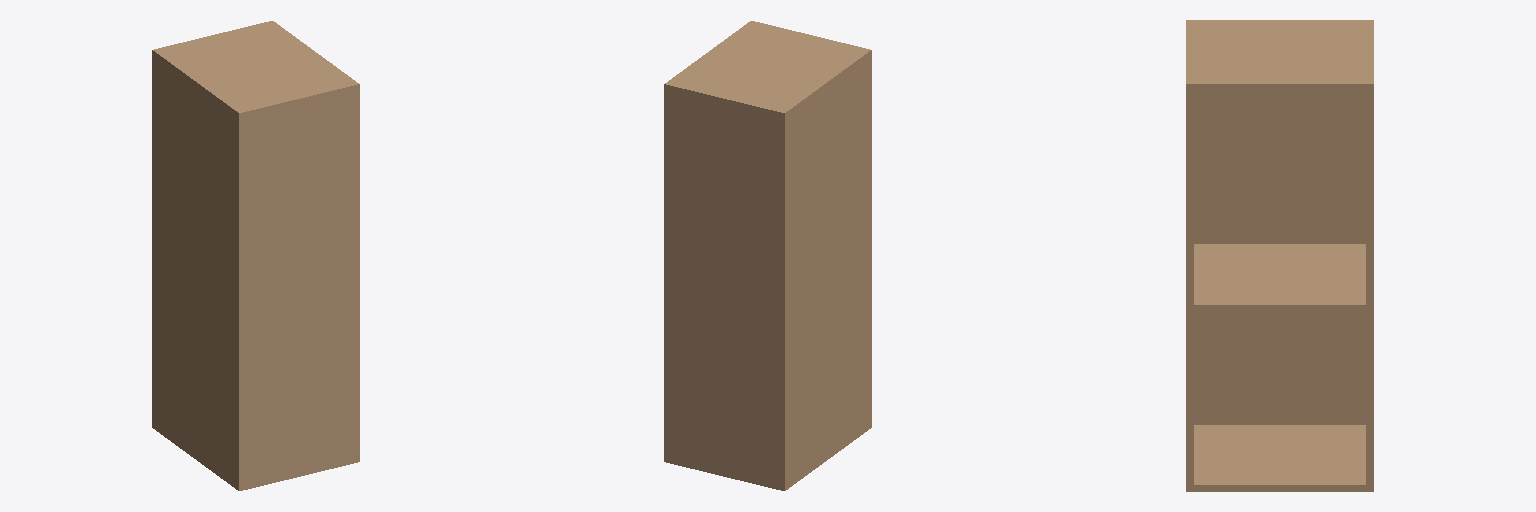
URDF robot description (plane):
<?xml version="1.1" ?> 
<robot name="plane"> 

  <link name="shelve_bottom">
    <contact>
        <lateral_friction value="1"/>
    </contact>

    <inertial>
      <origin rpy="0 0 0" xyz="0 0 0"/>
      <mass value=".0"/>
      <inertia ixx="0" ixy="0" ixz="0" iyy="0" iyz="0" izz="0"/>
    </inertial>

    <visual>
      <origin rpy="0 0 0" xyz="0.0 0.0 0.01"/>
      <geometry>
        <box size="0.4 0.5 0.02"/>
      </geometry>
      <material name="table_gray"/>
    </visual>

    <collision>
      <origin rpy="0 0 0" xyz="0.0 0.0 0.01"/>
      <geometry>
        <box size="0.4 0.5 0.02"/>
      </geometry>
    </collision>

  </link>

  <link name="shelve_top">
    <contact>
        <lateral_friction value="1"/>
    </contact>

    <inertial>
      <origin rpy="0 0 0" xyz="0 0 0"/>
      <mass value=".0"/>
      <inertia ixx="0" ixy="0" ixz="0" iyy="0" iyz="0" izz="0"/>
    </inertial>

    <visual>
      <origin rpy="0 0 0" xyz="0.0 0.0 1.1900000000000002"/>
      <geometry>
        <box size="0.4 0.5 0.02"/>
      </geometry>
      <material name="table_gray"/>
    </visual>

    <collision>
      <origin rpy="0 0 0" xyz="0.0 0.0 1.1900000000000002"/>
      <geometry>
        <box size="0.4 0.5 0.02"/>
      </geometry>
    </collision>

  </link>

  <joint name="joint_bt" type="fixed">
    <parent link="shelve_bottom"/>
    <child link="shelve_top"/>
    <origin rpy="0 0 0.0" xyz="0 0 0.0"/>
  </joint>

  <link name="shelve_back">
    <contact>
        <lateral_friction value="1"/>
    </contact>

    <inertial>
      <origin rpy="0 0 0" xyz="0 0 0"/>
      <mass value=".0"/>
      <inertia ixx="0" ixy="0" ixz="0" iyy="0" iyz="0" izz="0"/>
    </inertial>

    <visual>
      <origin rpy="0 0 0" xyz="-0.19 0 0.6000000000000001"/>
      <geometry>
        <box size="0.02 0.5 1.1600000000000001"/>
      </geometry>
      <material name="table_gray"/>
    </visual>

    <collision>
      <origin rpy="0 0 0" xyz="-0.19 0 0.6000000000000001"/>
      <geometry>
        <box size="0.02 0.5 1.1600000000000001"/>
      </geometry>
    </collision>

  </link>

  <joint name="joint2_bb" type="fixed">
    <parent link="shelve_bottom"/>
    <child link="shelve_back"/>
    <origin rpy="0 0 0.0" xyz="0 0 0.0"/>
  </joint>

  <link name="shelve_left">
    <contact>
        <lateral_friction value="1"/>
    </contact>

    <inertial>
      <origin rpy="0 0 0" xyz="0 0 0"/>
      <mass value=".0"/>
      <inertia ixx="0" ixy="0" ixz="0" iyy="0" iyz="0" izz="0"/>
    </inertial>

    <visual>
      <origin rpy="0 0 0" xyz="0.01 -0.24 0.6000000000000001"/>
      <geometry>
        <box size="0.38 0.02 1.1600000000000001"/>
      </geometry>
      <material name="table_gray"/>
    </visual>

    <collision>
      <origin rpy="0 0 0" xyz="0.01 -0.24 0.6000000000000001"/>
      <geometry>
        <box size="0.38 0.02 1.1600000000000001"/>
      </geometry>
    </collision>

  </link>

  <joint name="joint_bl" type="fixed">
    <parent link="shelve_bottom"/>
    <child link="shelve_left"/>
    <origin rpy="0 0 0.0" xyz="0 0 0.0"/>
  </joint>

  <link name="shelve_right">
    <contact>
        <lateral_friction value="1"/>
    </contact>

    <inertial>
      <origin rpy="0 0 0" xyz="0 0 0"/>
      <mass value=".0"/>
      <inertia ixx="0" ixy="0" ixz="0" iyy="0" iyz="0" izz="0"/>
    </inertial>

    <visual>
      <origin rpy="0 0 0" xyz="0.01 0.24 0.6000000000000001"/>
      <geometry>
        <box size="0.38 0.02 1.1600000000000001"/>
      </geometry>
      <material name="table_gray"/>
    </visual>

    <collision>
      <origin rpy="0 0 0" xyz="0.01 0.24 0.6000000000000001"/>
      <geometry>
        <box size="0.38 0.02 1.1600000000000001"/>
      </geometry>
    </collision>

  </link>

  <joint name="joint_br" type="fixed">
    <parent link="shelve_bottom"/>
    <child link="shelve_right"/>
    <origin rpy="0 0 0.0" xyz="0 0 0.0"/>
  </joint>

  <link name="shelve_horizontal_0">
    <contact>
        <lateral_friction value="1"/>
    </contact>

    <inertial>
      <origin rpy="0 0 0" xyz="0 0 0"/>
      <mass value=".0"/>
      <inertia ixx="0" ixy="0" ixz="0" iyy="0" iyz="0" izz="0"/>
    </inertial>

    <visual>
      <origin rpy="0 0 0" xyz="0.01 0 0.54"/>
      <geometry>
        <box size="0.38 0.46 0.02"/>
      </geometry>
      <material name="table_gray"/>
    </visual>

    <collision>
      <origin rpy="0 0 0" xyz="0.01 0 0.54"/>
      <geometry>
        <box size="0.38 0.46 0.02"/>
      </geometry>
    </collision>

  </link>

  <joint name="joint_hv0" type="fixed">
    <parent link="shelve_bottom"/>
    <child link="shelve_horizontal_0"/>
    <origin rpy="0 0 0.0" xyz="0 0 0.0"/>
  </joint>

  <material name="table_gray">
    <color rgba=".7686 .6431 .5176 1."/>
  </material>
</robot>

--- Facts derived from the render (not from the file) ---
The picture shows the robot from 3 angles, left to right: view 1: azimuth 30°, elevation 25°; view 2: azimuth 150°, elevation 25°; view 3: azimuth 270°, elevation 25°; orthographic projection.
Model plane with 6 links and 5 joints (5 fixed), rooted at shelve_bottom, posed every joint at zero.
Visible links, largest first — view 1: shelve_left, shelve_back, shelve_top, shelve_bottom; view 2: shelve_right, shelve_back, shelve_top, shelve_bottom; view 3: shelve_back, shelve_top, shelve_bottom, shelve_horizontal_0, shelve_left, shelve_right.
Link boxes in pixels (bbox=[...]): shelve_left: bbox=[245, 90, 359, 483]; shelve_back: bbox=[152, 56, 244, 484]; shelve_top: bbox=[152, 21, 359, 119]; shelve_bottom: bbox=[152, 422, 359, 490]; shelve_right: bbox=[664, 90, 778, 483]; shelve_back: bbox=[779, 56, 871, 484]; shelve_top: bbox=[664, 21, 871, 119]; shelve_bottom: bbox=[664, 422, 871, 490]; shelve_back: bbox=[1194, 91, 1365, 424]; shelve_top: bbox=[1186, 20, 1373, 90]; shelve_bottom: bbox=[1186, 425, 1373, 491]; shelve_horizontal_0: bbox=[1194, 244, 1365, 310]; shelve_left: bbox=[1186, 91, 1193, 484]; shelve_right: bbox=[1366, 91, 1373, 484].
Size in the robot's own frame: 0.4 by 0.5 by 1.2 metres.
Geometry: primitives only (box / cylinder / sphere), no mesh files.